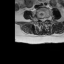CCS_normal: (42, 16, 44, 24)
LFS_normal: (46, 15, 48, 21)
LLS_normal: (44, 16, 45, 22)
RFS_stenosis: (38, 15, 40, 21)
RLS_normal: (40, 16, 42, 22)
